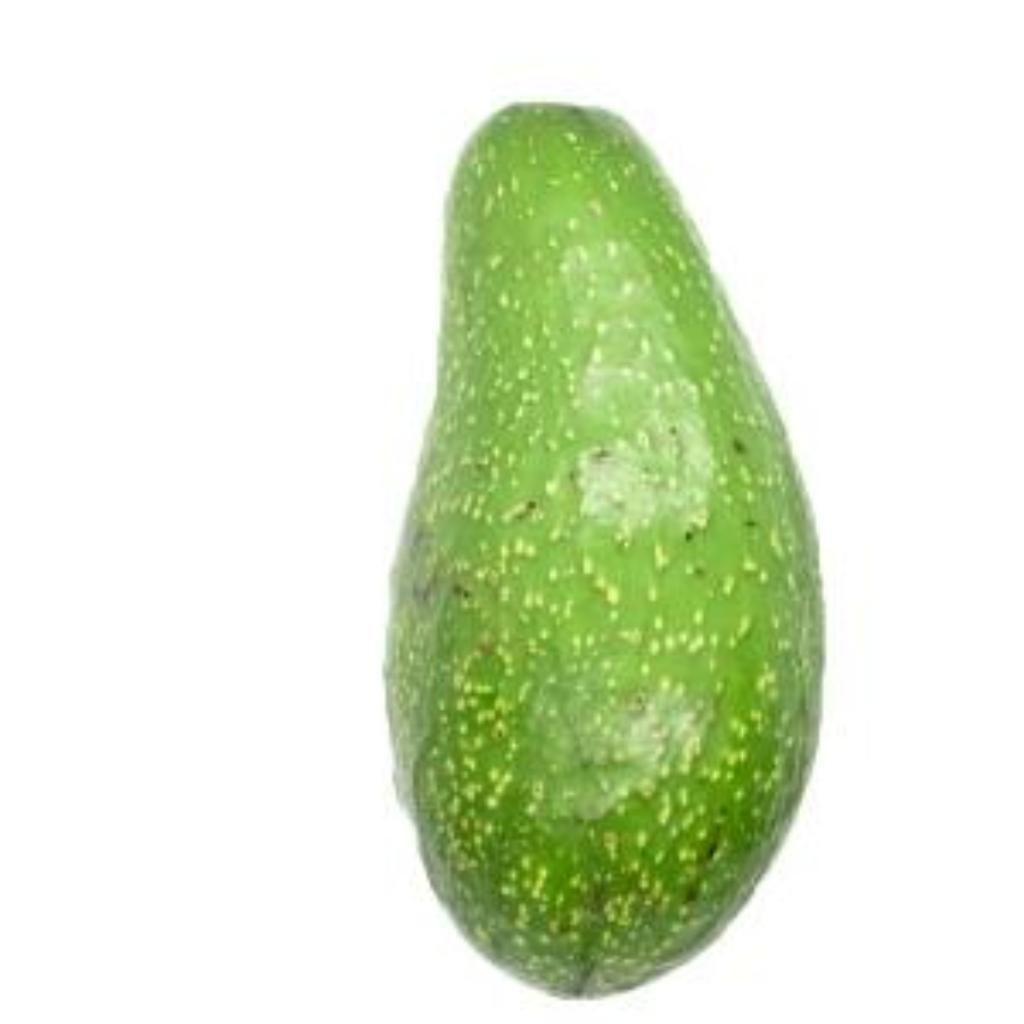cercospora_spot: (380, 92, 836, 1000)
